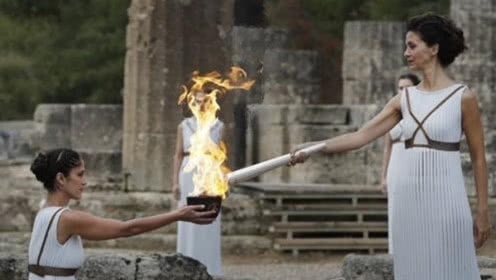fire: (176, 62, 259, 198)
